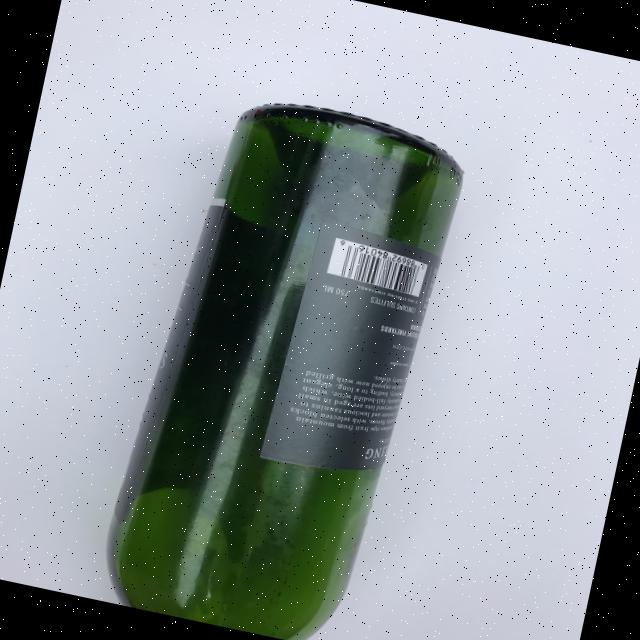glass: (93, 80, 472, 640)
